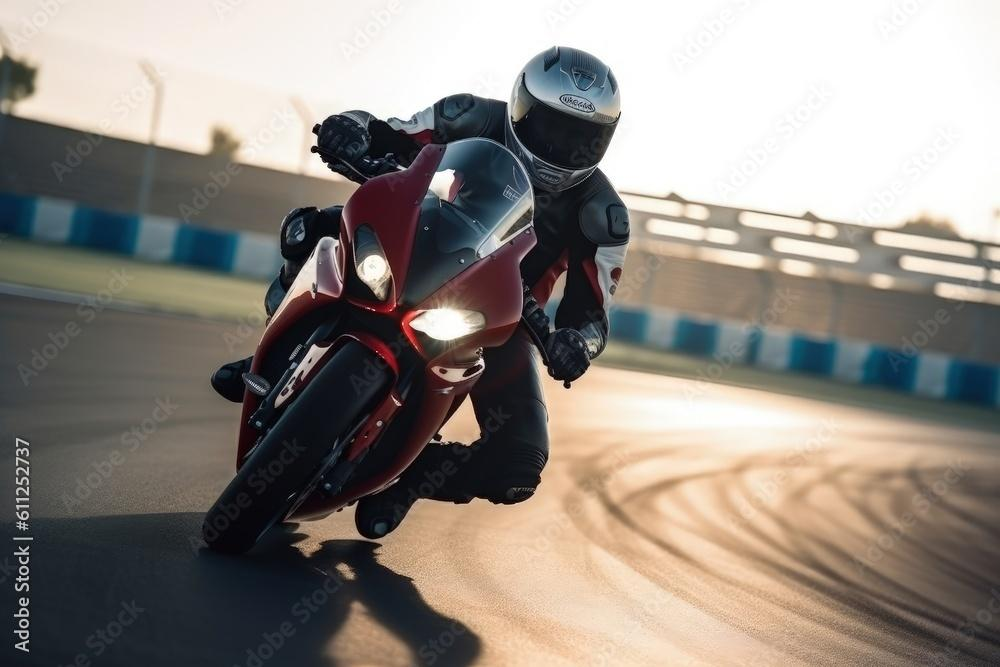helmet: (503, 44, 622, 199)
